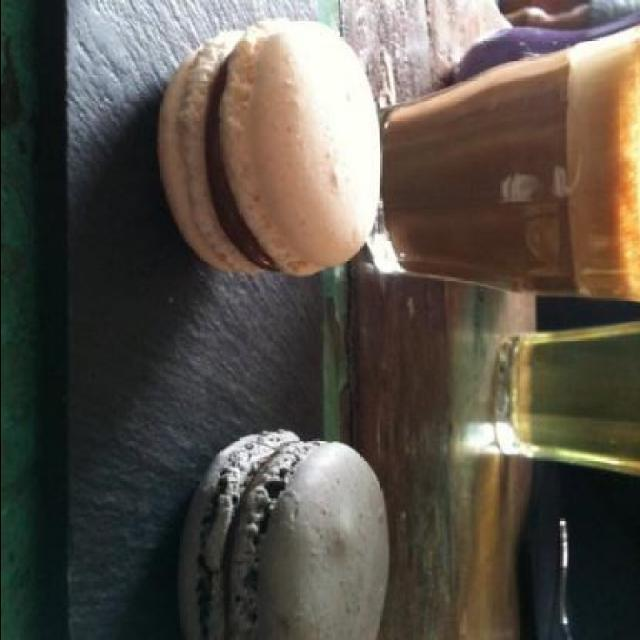Macaron: (138, 16, 390, 639)
